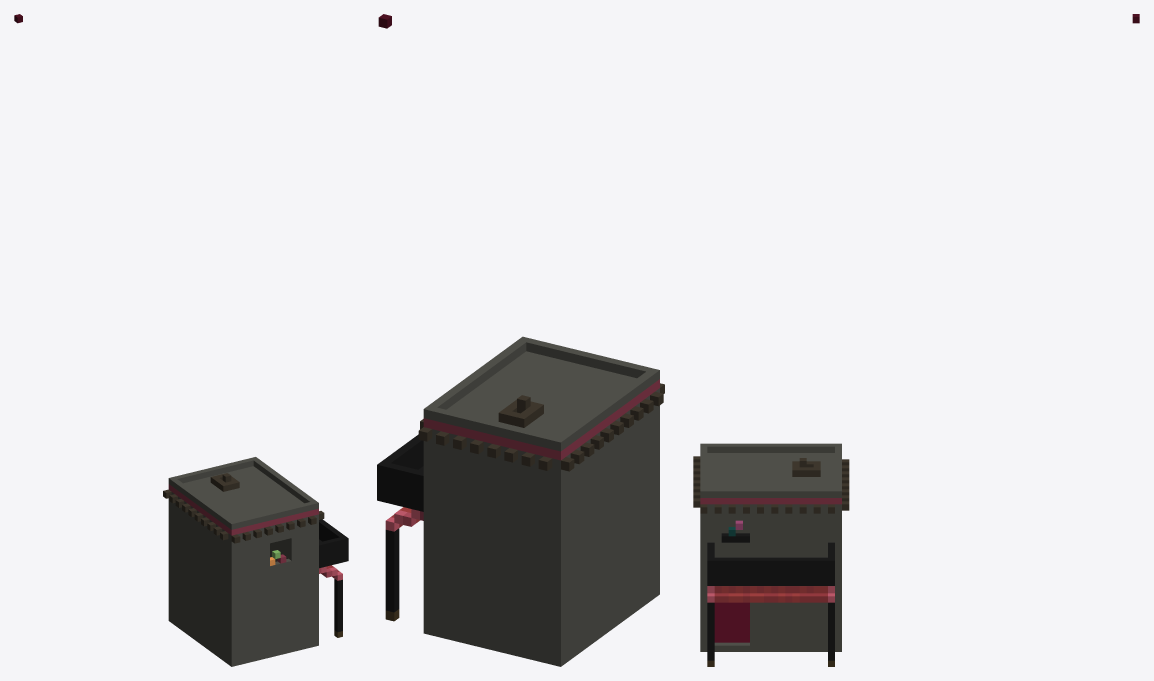
Rendered from house1Etage.obj.
3 renders of one model, left to right at view 1: azimuth 30°, elevation 25°; view 2: azimuth 150°, elevation 25°; view 3: azimuth 270°, elevation 25°, orthographic. The views are drawn at different scales.
Bounding box in the file's own units: 2.6 × 9 × 6.3.
1 material, 1 textured.
